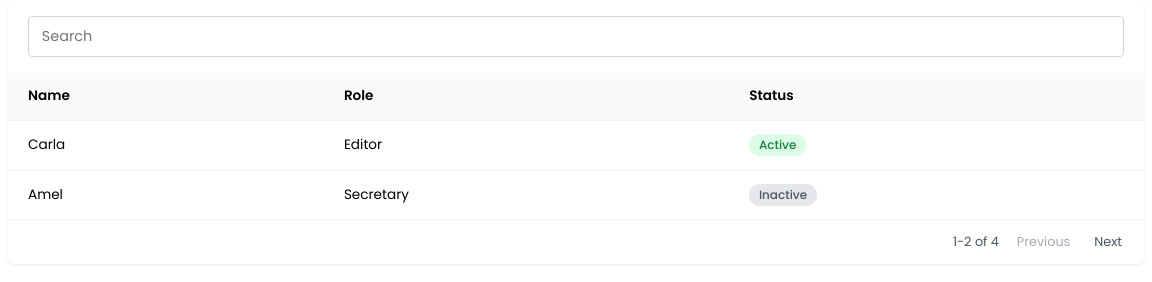
Test case: DataTableComponent › client mode › returns to the first page when searching
Click the button "Next" at coordinates (1108, 242), box top-left (1088, 232), bottom-right (1128, 252)
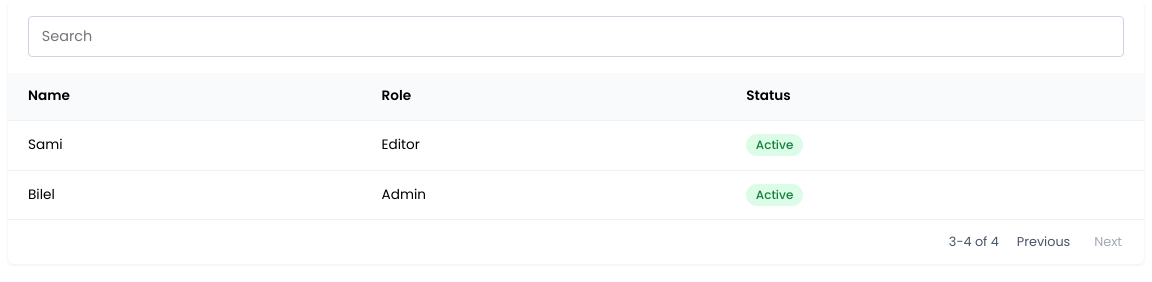
Type "a" into the search field with class "search" at coordinates (576, 36), box top-left (28, 16), bottom-right (1124, 57)
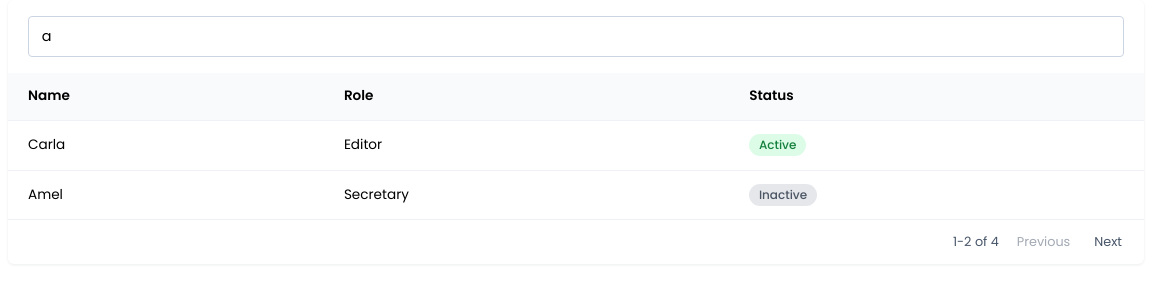
Result: the element showing "1-2 of 4 Previous Next" is shown at top-left (953, 232), bottom-right (1128, 252)
